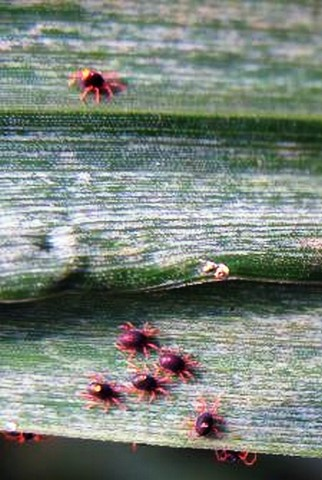Wheat Red Spider: (57, 310, 199, 415)
